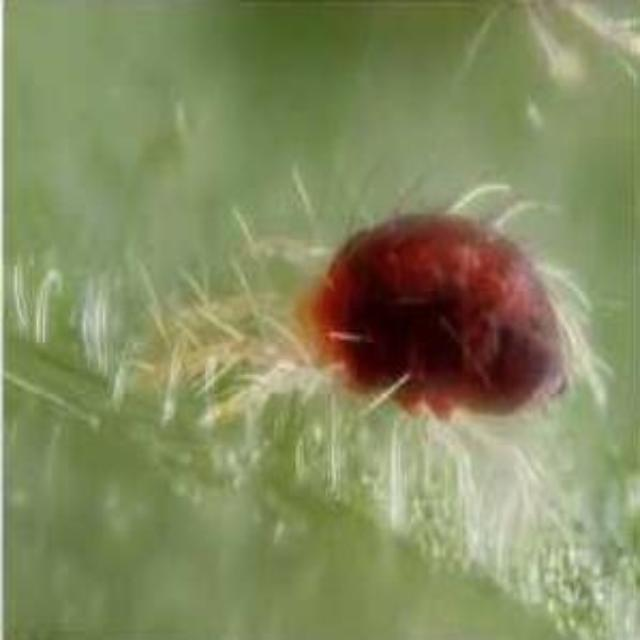spider mite: (138, 139, 640, 526)
